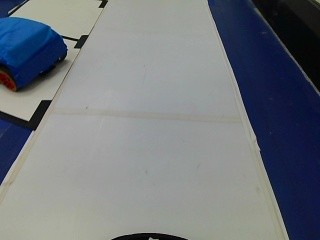car: (0, 12, 68, 95)
